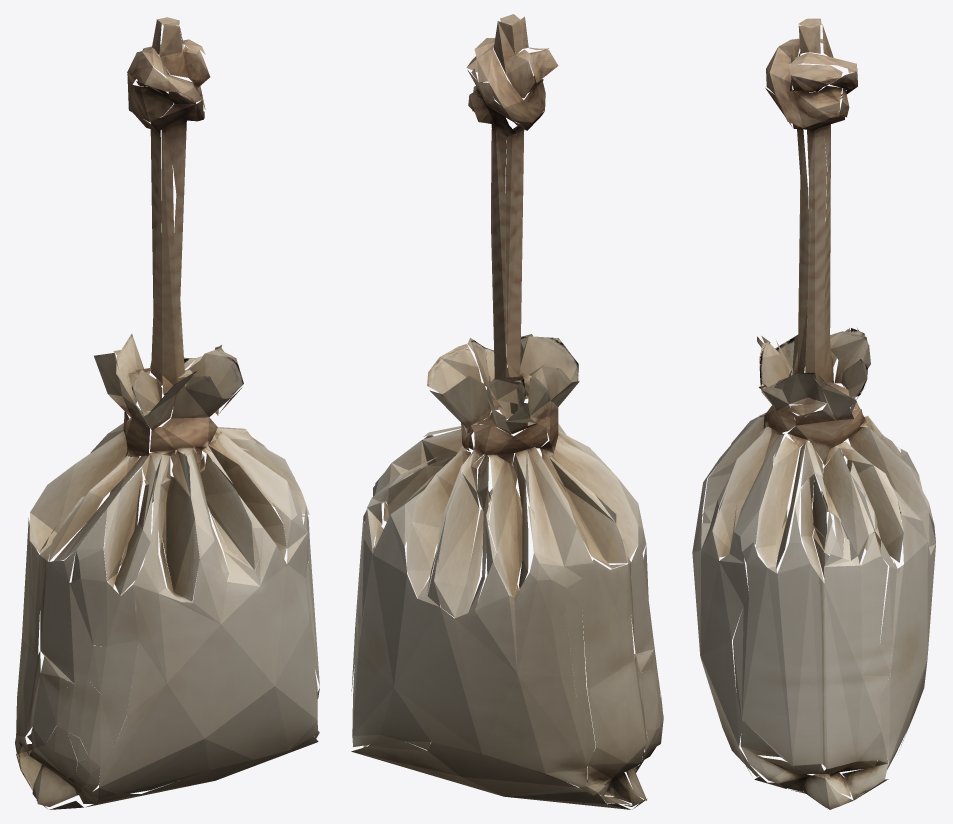
File: sandbag.glb
3 views of the same model, side by side, from view 1: azimuth 30°, elevation 25°; view 2: azimuth 150°, elevation 25°; view 3: azimuth 270°, elevation 25° (orthographic). The views are drawn at different scales.
Visible parts, largest first — view 1: geometry_0; view 2: geometry_0; view 3: geometry_0.
Part boxes in pixels (x1,y1,x2,y2): geometry_0: (15, 17, 319, 809); geometry_0: (351, 14, 663, 809); geometry_0: (692, 18, 935, 809).
Size of the model in its own units: 0.3885 by 1 by 0.3061.
1 material, 1 textured.
